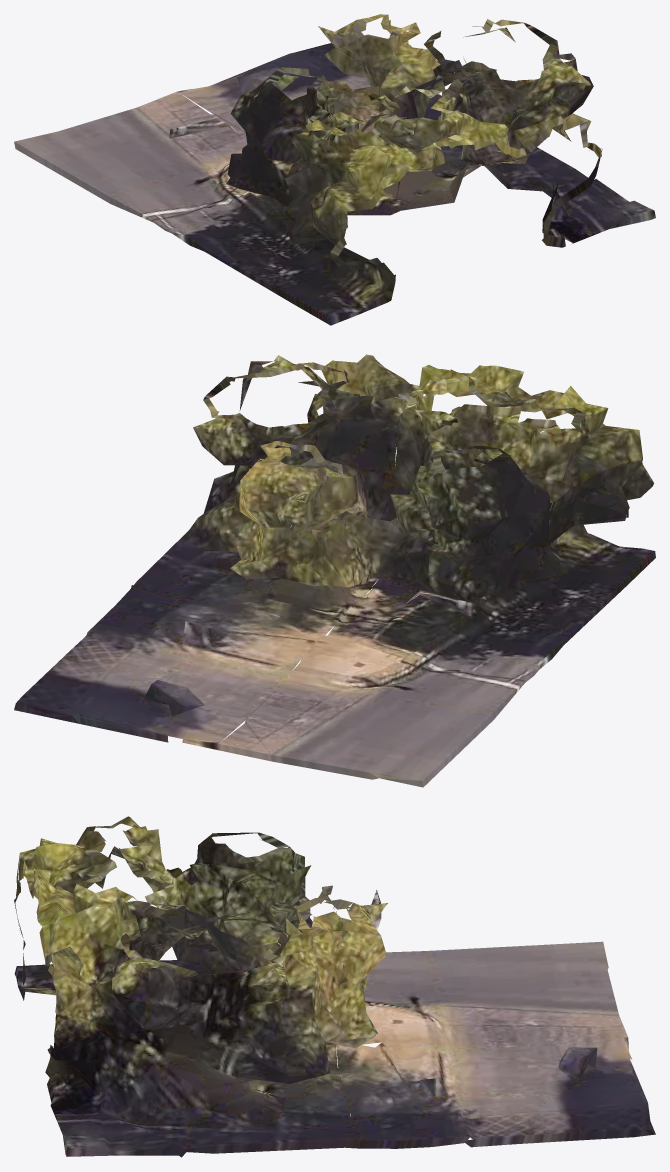
3 views of the same model, one above another, from view 1: azimuth 30°, elevation 25°; view 2: azimuth 150°, elevation 25°; view 3: azimuth 270°, elevation 25° (orthographic). The views are drawn at different scales.
Visible parts, largest first — view 1: Mesh_0; view 2: Mesh_0; view 3: Mesh_0.
Boxes of the visible parts, x1,y1,x2,y2 form: Mesh_0: [14, 14, 655, 325]; Mesh_0: [14, 354, 655, 787]; Mesh_0: [14, 816, 655, 1157].
Size of the model in its own units: 33.31 by 12.56 by 41.51.
Materials: 2 (2 with a texture image).
